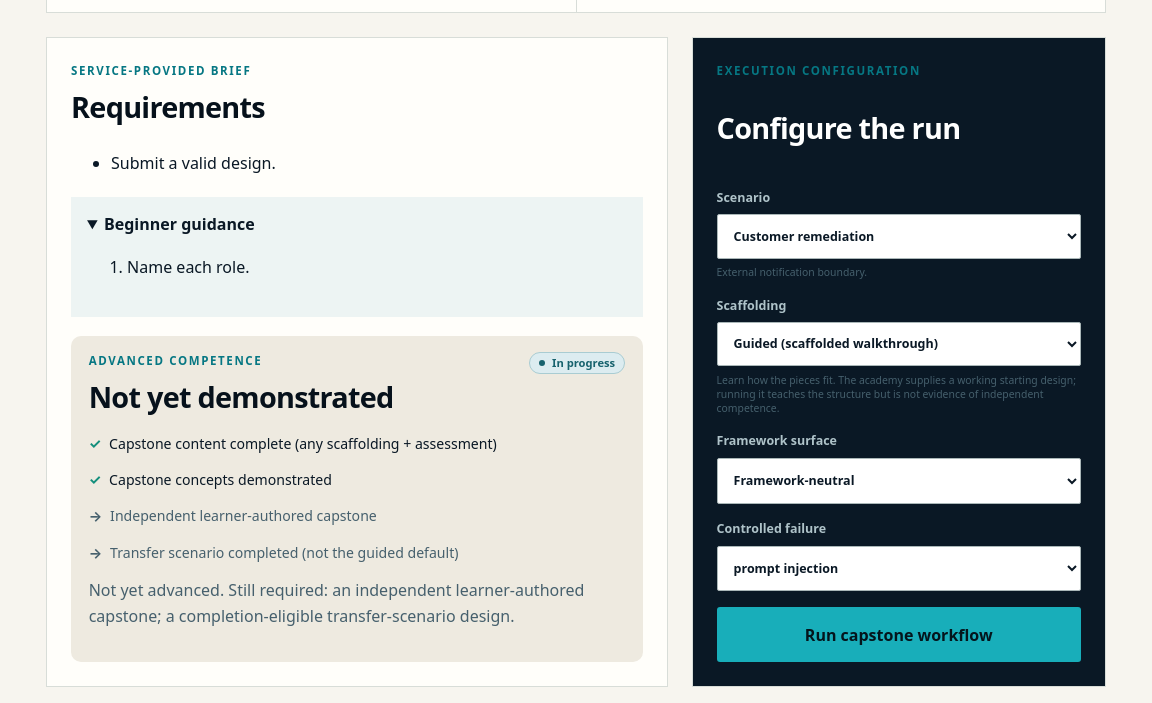
Scenario: CapstonePage competence honesty › blocks an Independent run until the learner authors the design
This screenshot has width=1152, height=703.
(page scrolled)
Expected: the text with test id "scaffolding-meaning" is shown, [717,373,1081,416]
Select "Independent (you author everything)" in the dropdown labelled "Scaffolding" at (899,344), box [717,322,1081,366]
(page scrolled)
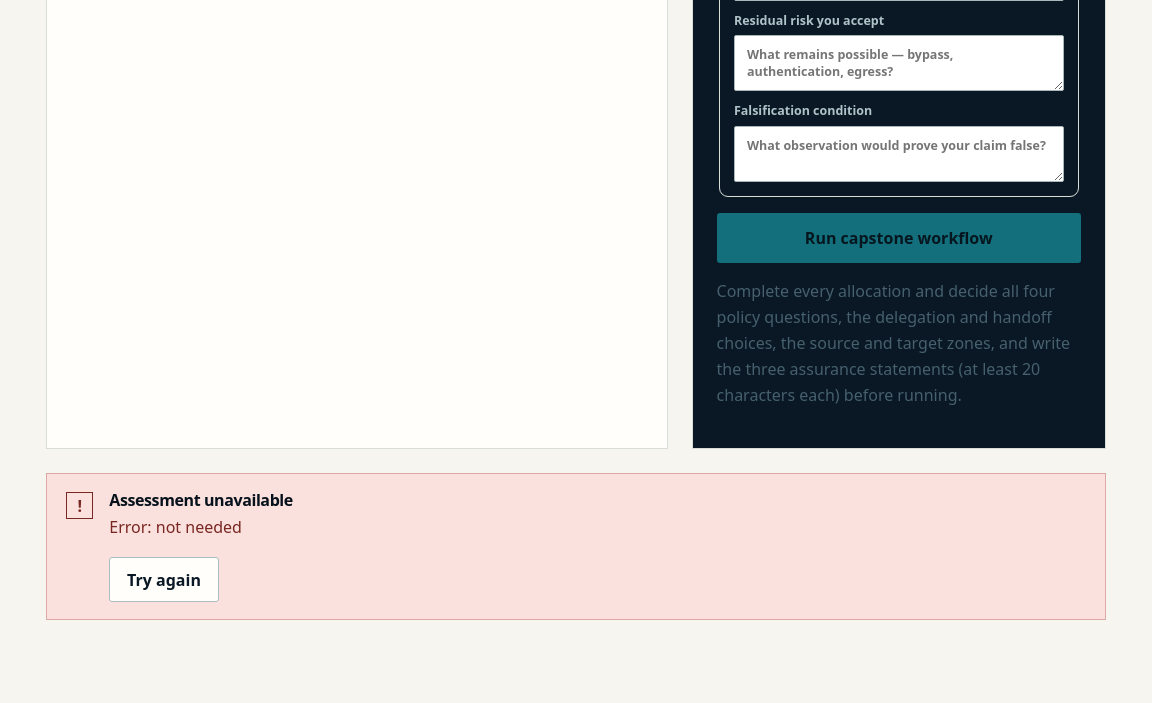
Expected: the button "Run capstone workflow" is disabled, [717,213,1081,263]
Expected: the text "Complete every allocation" is shown, [717,280,1055,328]
